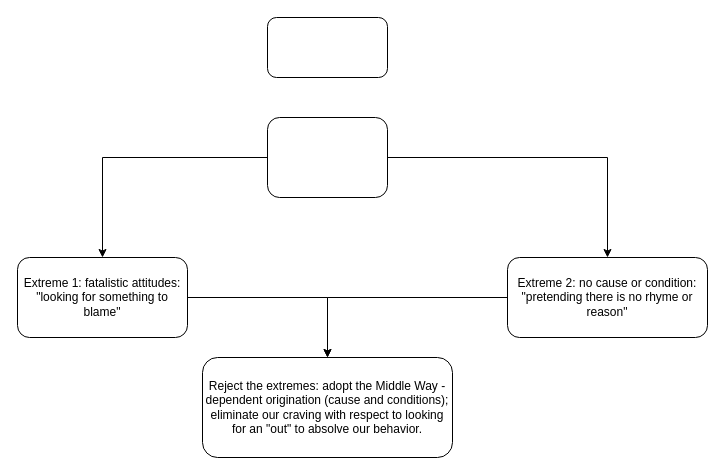
Image size: 725x475. Some labels were removed from this diagram. The box of each missing label's shape, as (x1, y1, x2, y2) in pixels:
AN 3.61: (266, 16, 388, 78)
craving: looking for an "out" to absolve our behavior: (266, 116, 388, 198)
